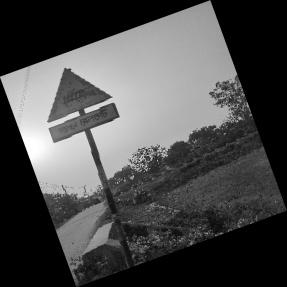Rail-crossing: (46, 68, 118, 144)
